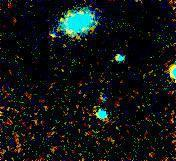star: (46, 4, 76, 34)
